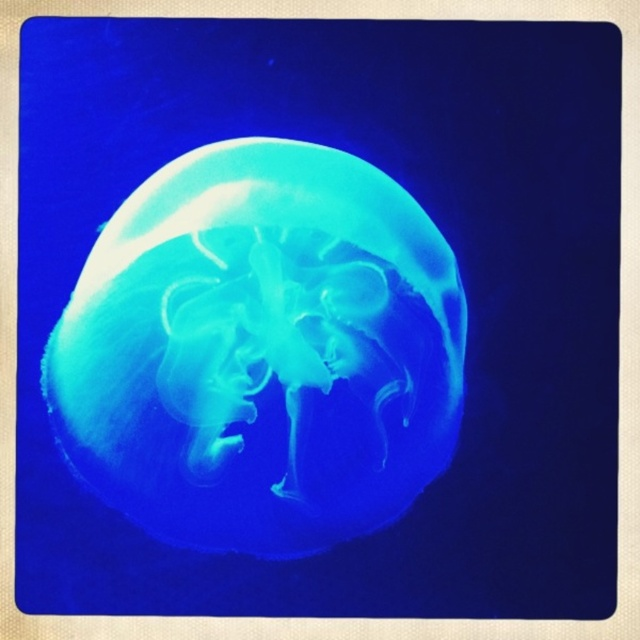Jellyfish: (41, 125, 486, 566)
